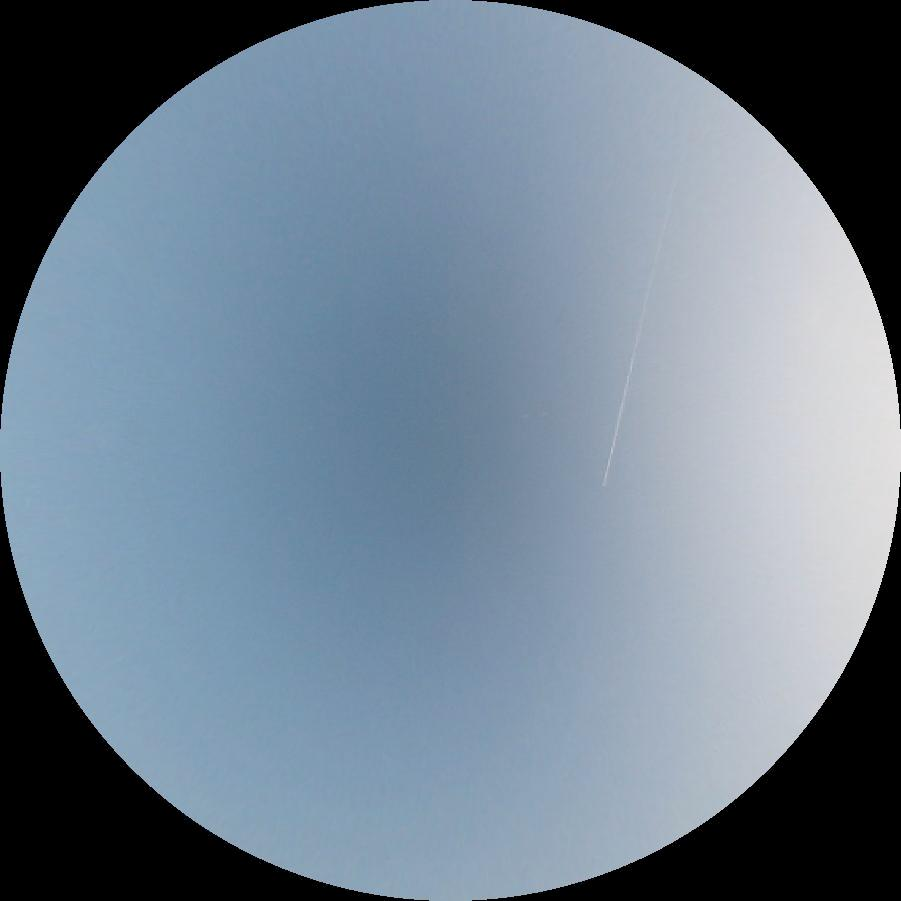contrail young: (599, 155, 684, 488)
